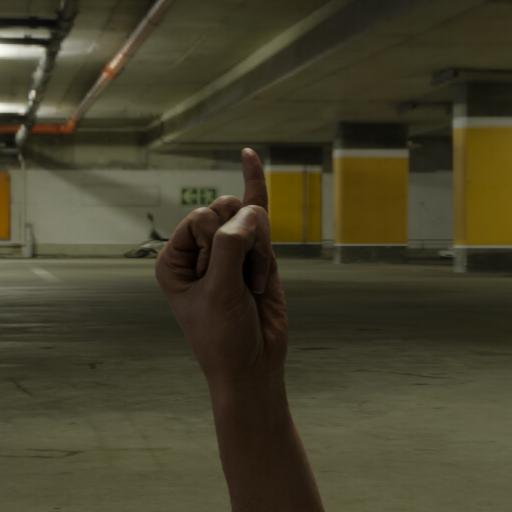I: (139, 140, 317, 512)
